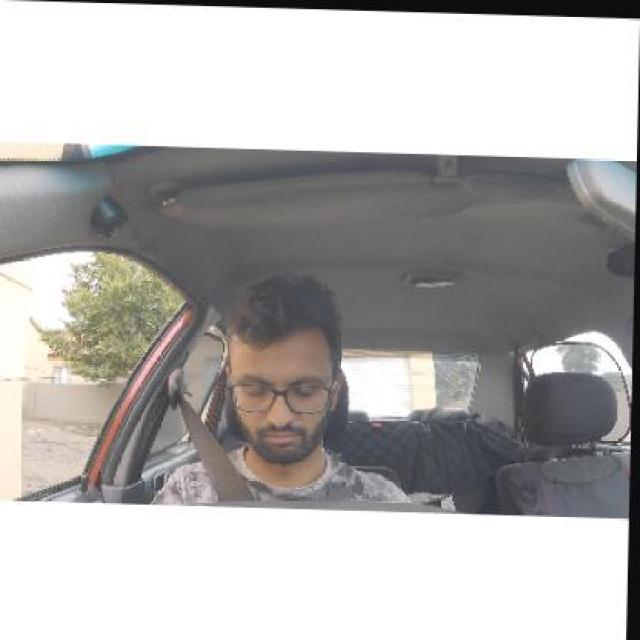drowsy: (221, 314, 351, 461)
